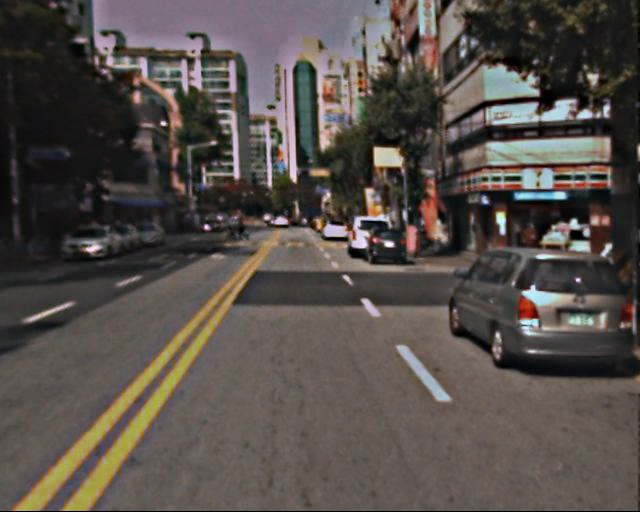person: (518, 214, 543, 271), (236, 213, 248, 243)
